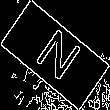N_SW: (27, 23, 83, 87)
